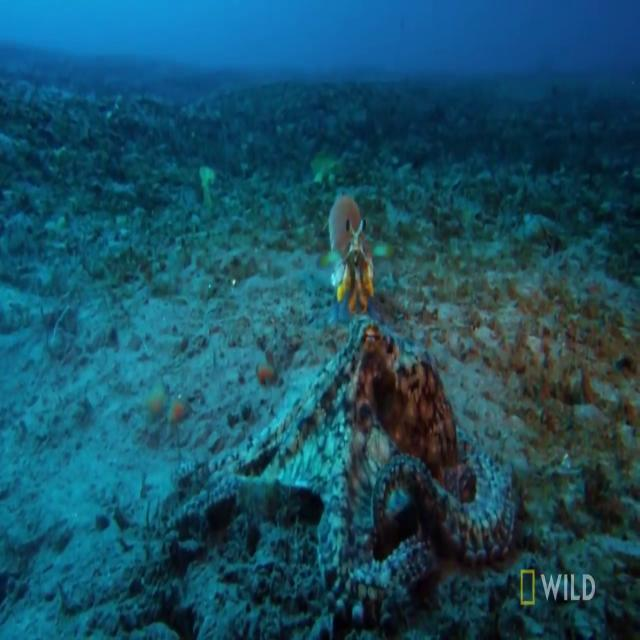octopus: (175, 314, 521, 640), (325, 196, 383, 317)
